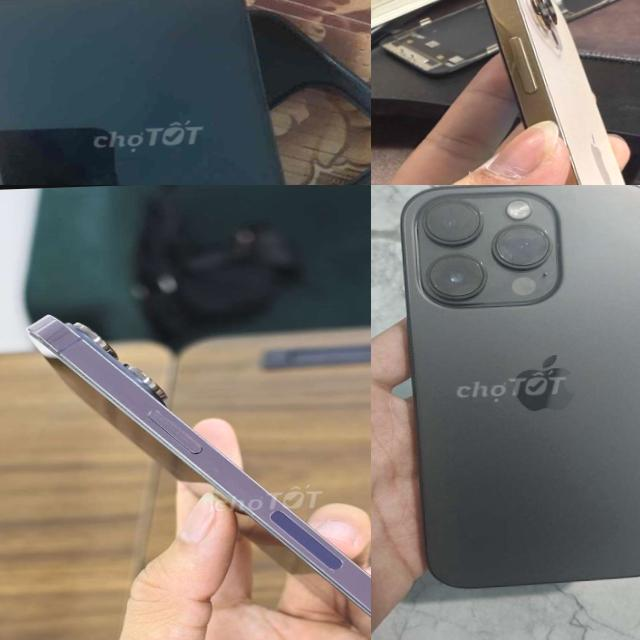gen_12_13: (457, 0, 640, 185)
gen_14: (15, 284, 371, 640), (379, 185, 640, 597), (0, 0, 342, 185)
